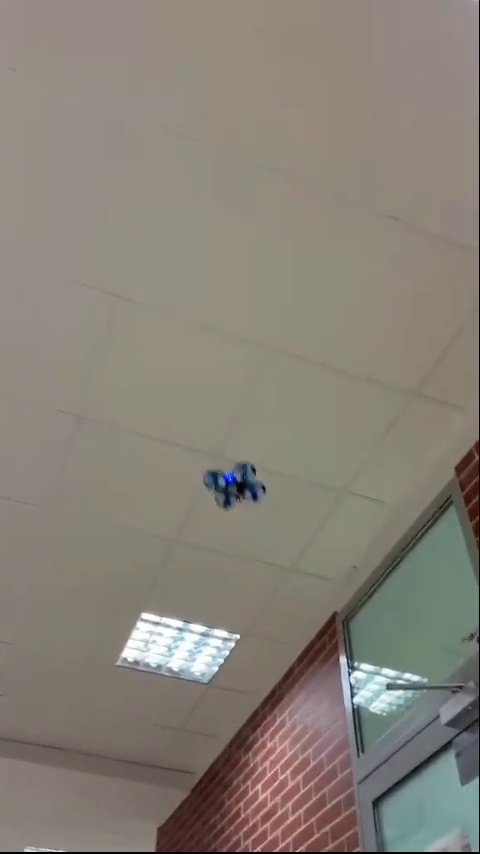drone: (201, 461, 262, 509)
